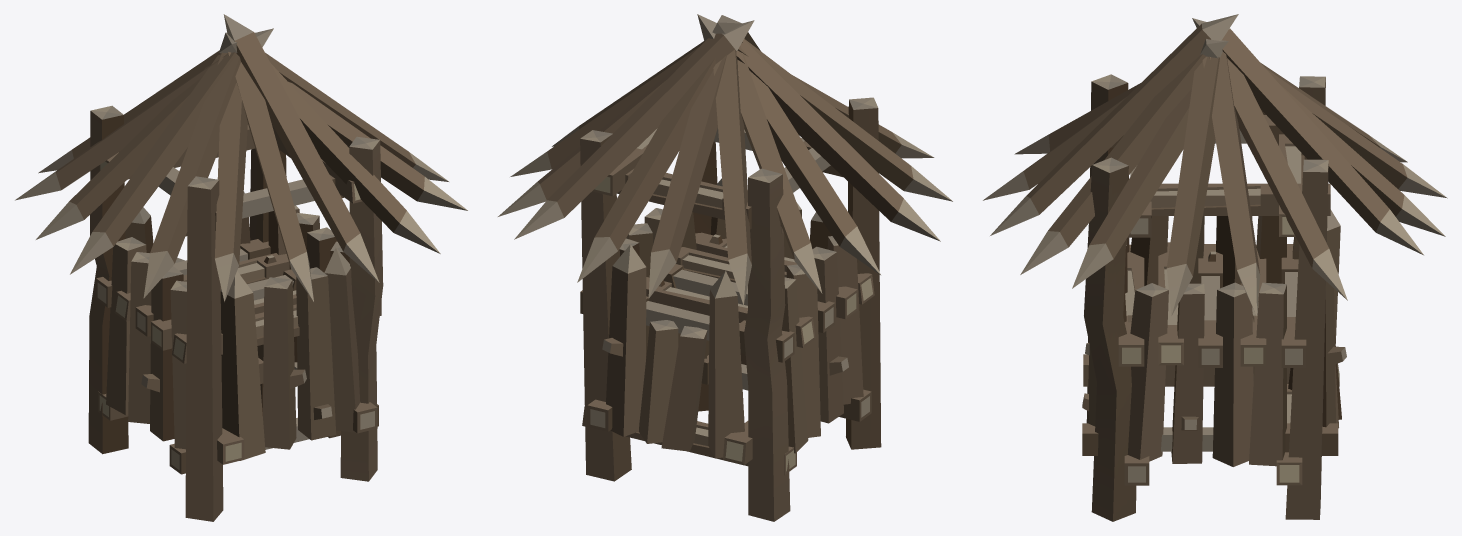
Rendered from Model_Horde_2x2A.fbx.
The picture shows the model from 3 angles, left to right: view 1: azimuth 30°, elevation 25°; view 2: azimuth 150°, elevation 25°; view 3: azimuth 270°, elevation 25°; orthographic projection. The views are drawn at different scales.
Visible parts, largest first — view 1: Model_Frost_2x2A; view 2: Model_Frost_2x2A; view 3: Model_Frost_2x2A.
Part boxes in pixels (x1,y1,x2,y2): Model_Frost_2x2A: (15,14,467,521); Model_Frost_2x2A: (498,14,952,521); Model_Frost_2x2A: (983,14,1447,521).
Bounding box in the file's own units: 398 × 435 × 399.
Materials: 1 (1 with a texture image).
